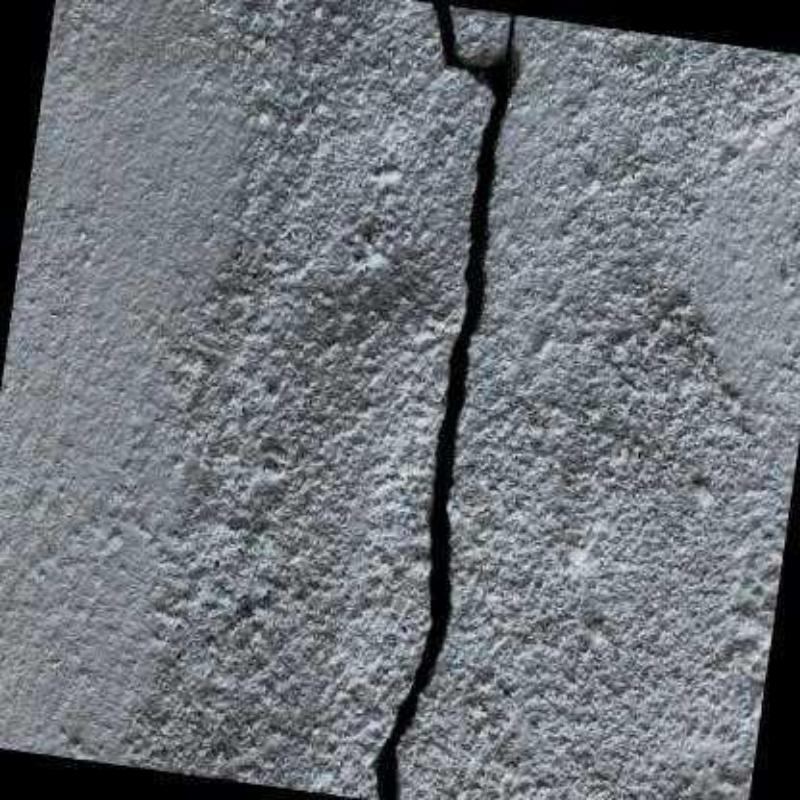pothole: (367, 0, 519, 800)
